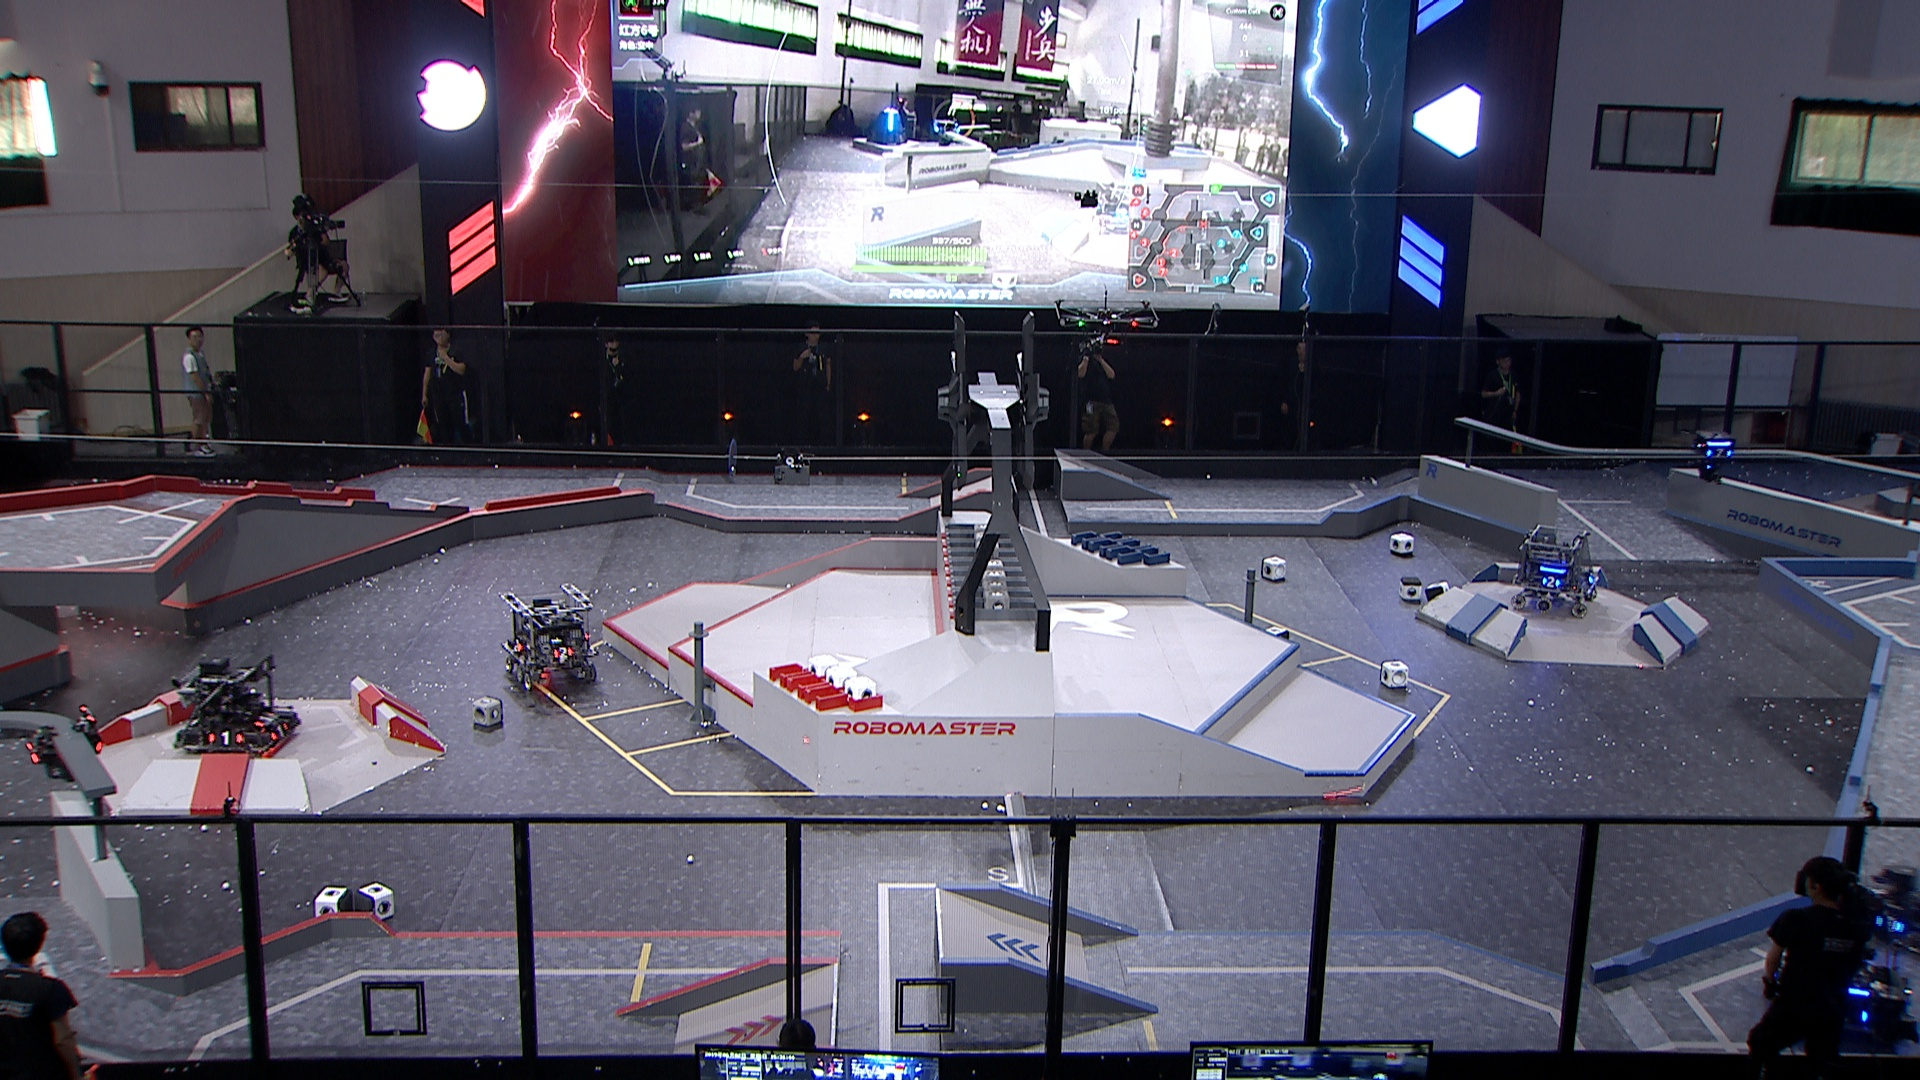armor: (1869, 910, 1908, 939), (206, 727, 248, 749), (266, 716, 291, 744), (251, 705, 277, 728), (24, 738, 44, 766), (1706, 446, 1737, 462), (553, 646, 579, 662), (1585, 567, 1604, 588), (1538, 574, 1561, 589), (509, 636, 524, 655)
car: (1756, 935, 1920, 1050), (169, 650, 302, 757), (498, 582, 600, 692), (1505, 520, 1607, 618), (1851, 864, 1920, 955)
ignore: (866, 105, 913, 148), (932, 115, 961, 149)
watcher: (18, 703, 109, 789), (1693, 425, 1738, 488)
